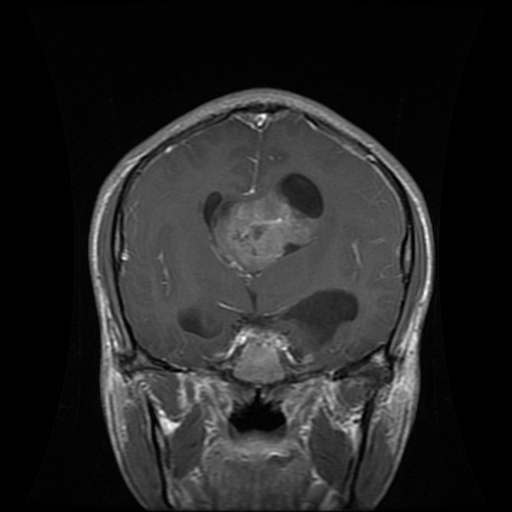glioma: (200, 172, 326, 284)
